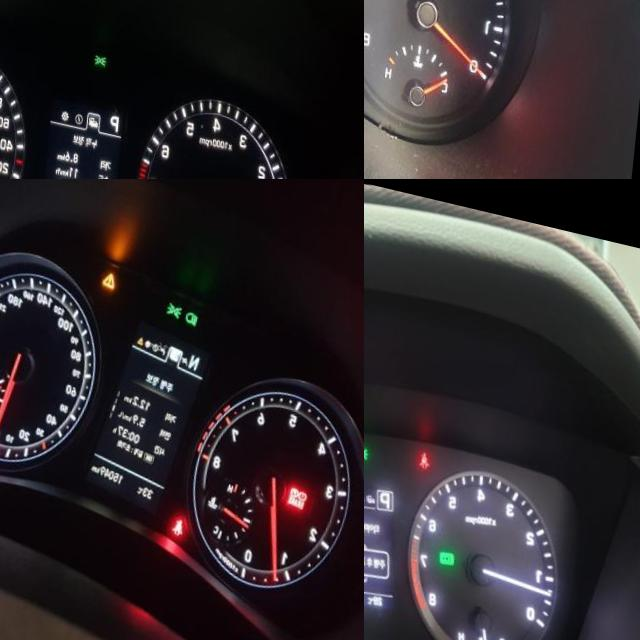Central Warning lamp: (107, 256, 125, 277)
Low beam: (190, 292, 206, 309)
SideLamp: (171, 284, 189, 302), (364, 427, 376, 445), (101, 39, 113, 52)
